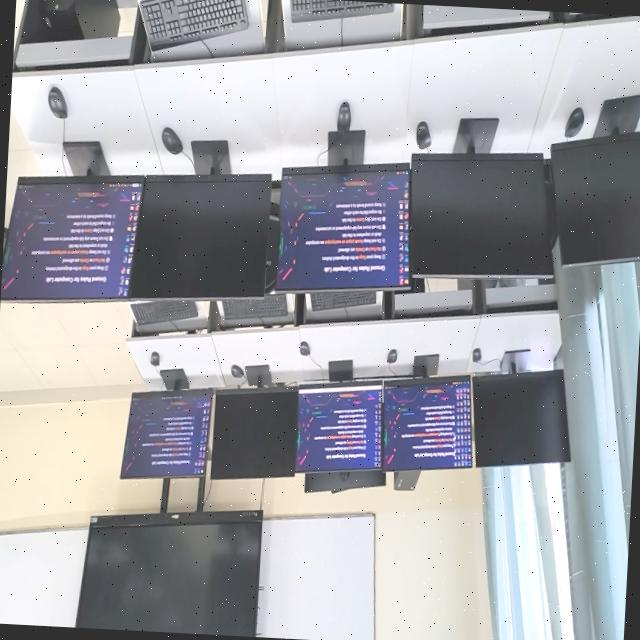Cpu: (35, 0, 120, 41), (394, 471, 421, 491)
Digital board: (75, 479, 263, 637)
Keyboard: (141, 0, 249, 51), (131, 301, 208, 334), (218, 295, 293, 328), (291, 0, 394, 23), (311, 291, 376, 311)
Monitor: (129, 169, 273, 299), (410, 153, 554, 278), (1, 177, 144, 300), (276, 164, 410, 292), (550, 132, 640, 267), (473, 370, 571, 468), (383, 377, 473, 472), (121, 390, 213, 479), (211, 386, 298, 480), (296, 382, 383, 472), (305, 470, 386, 494)
Mouse: (49, 87, 68, 118), (565, 109, 585, 138), (162, 128, 183, 155), (337, 102, 351, 133), (416, 122, 431, 150), (231, 365, 243, 379), (300, 341, 311, 356), (150, 352, 160, 367), (387, 349, 397, 364), (473, 349, 482, 363)
